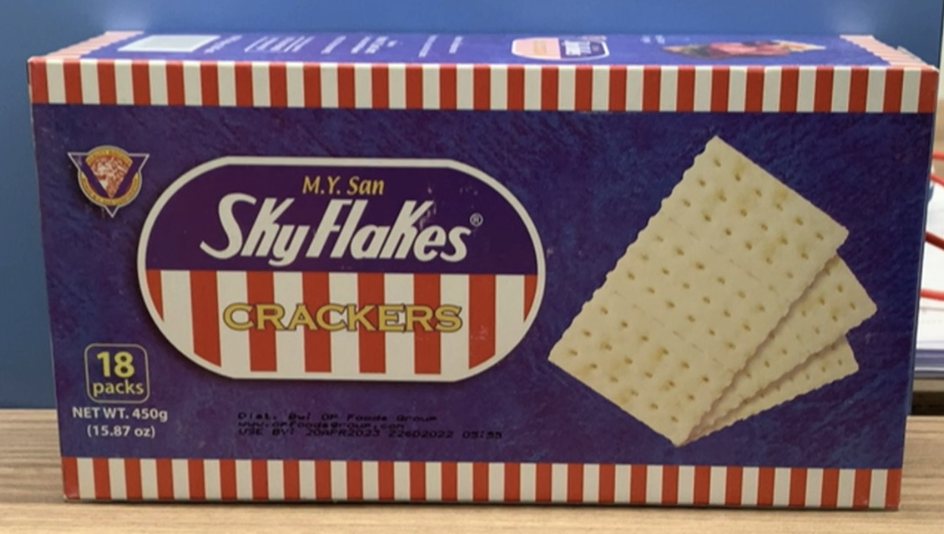crackers_450g: (65, 80, 900, 486)
